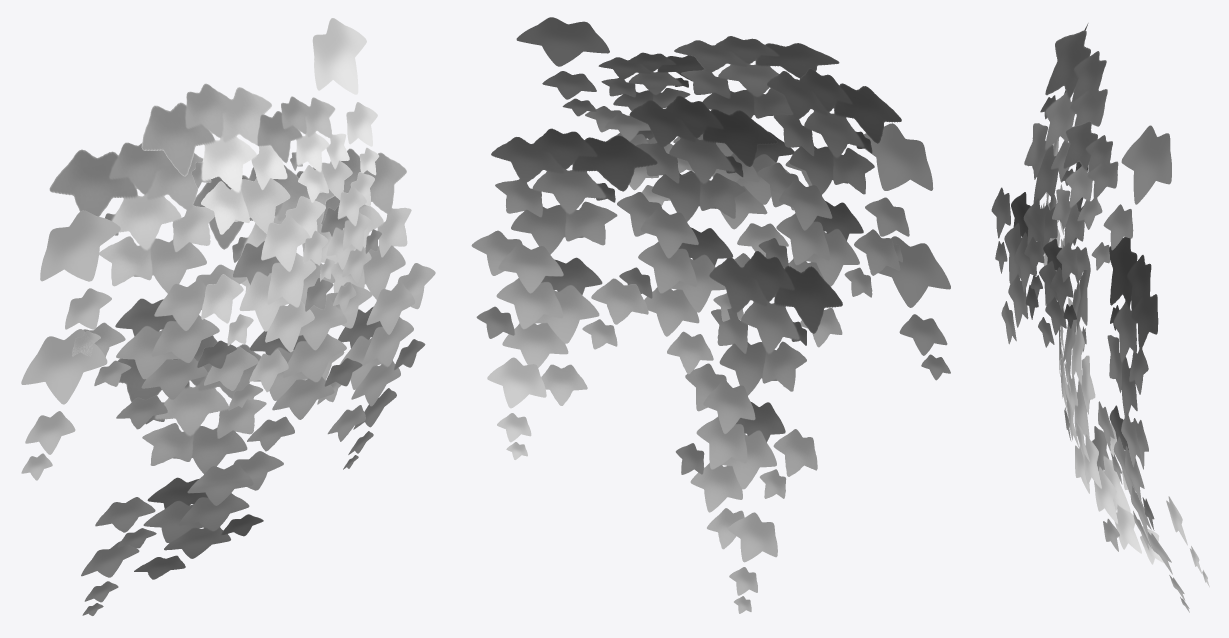
The model's file is IVY1.fbx.
3 views of the same model, side by side, from view 1: azimuth 30°, elevation 25°; view 2: azimuth 150°, elevation 25°; view 3: azimuth 270°, elevation 25° (orthographic). The views are drawn at different scales.
Visible parts, largest first — view 1: Object008; view 2: Object008; view 3: Object008.
Boxes of the visible parts, bbox=[...] form: Object008: bbox=[21, 18, 435, 615]; Object008: bbox=[471, 17, 950, 613]; Object008: bbox=[991, 23, 1209, 612].
Size of the model in its own units: 43.97 by 18.51 by 51.43.
